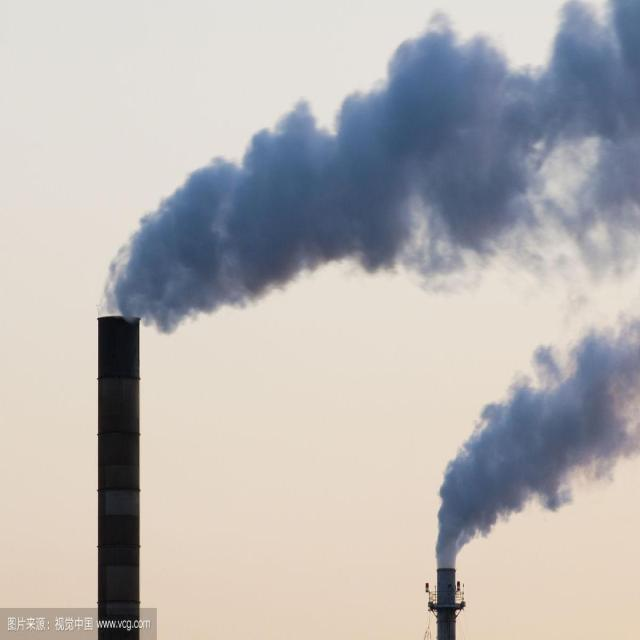Smoke: (106, 0, 639, 323), (434, 314, 640, 562)
